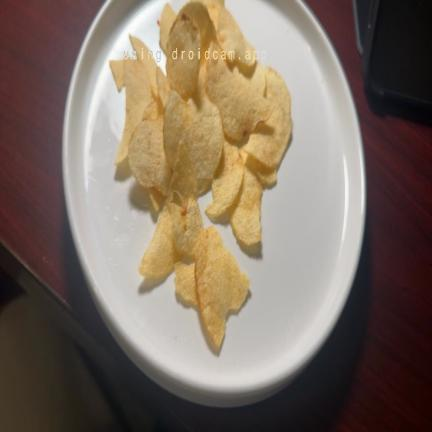chips: (110, 0, 291, 349), (196, 227, 250, 348), (207, 44, 272, 140), (164, 92, 224, 193), (245, 68, 291, 169), (169, 142, 203, 257), (184, 98, 224, 193), (115, 60, 151, 164), (129, 119, 171, 195), (139, 206, 180, 279), (167, 14, 201, 99), (206, 142, 244, 218), (230, 167, 262, 245), (179, 2, 216, 61), (217, 8, 255, 65), (170, 192, 203, 257), (164, 91, 187, 168), (130, 35, 157, 96), (169, 141, 197, 199), (241, 150, 276, 187), (175, 262, 198, 307), (160, 4, 176, 54), (156, 68, 171, 108), (110, 60, 125, 92), (148, 188, 164, 211), (143, 101, 159, 119)
plate: (63, 0, 365, 406)
